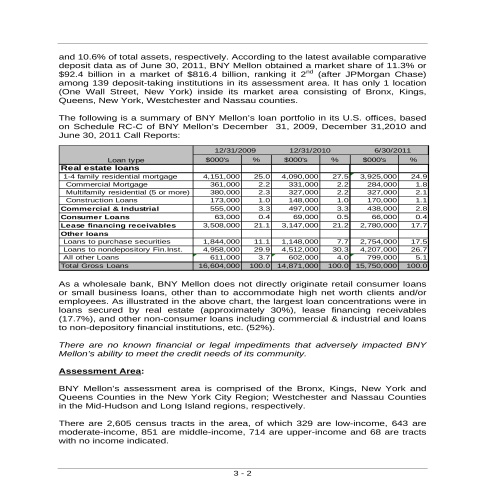bodyrows: (60, 164, 429, 269)
borderedtable: (55, 143, 433, 272)
cell: (63, 189, 190, 196), (59, 247, 184, 254), (61, 205, 162, 213), (61, 222, 176, 229), (60, 239, 173, 246), (62, 174, 181, 180), (63, 181, 152, 188), (63, 197, 142, 204), (61, 214, 135, 221), (105, 155, 149, 165), (62, 166, 147, 171), (372, 144, 414, 154), (62, 263, 131, 269), (289, 145, 334, 154), (209, 146, 258, 154), (61, 230, 108, 238), (280, 153, 313, 164), (62, 255, 119, 261), (278, 262, 318, 270), (202, 156, 236, 165), (359, 173, 397, 181), (356, 262, 398, 269), (199, 262, 240, 269), (281, 246, 318, 253), (359, 239, 396, 246), (206, 204, 241, 211), (207, 189, 241, 196), (360, 156, 389, 164), (201, 223, 239, 229), (280, 174, 318, 180), (280, 239, 318, 245), (286, 206, 318, 213), (281, 222, 318, 228), (367, 206, 398, 213), (325, 155, 343, 167), (292, 213, 319, 221), (360, 247, 396, 253), (287, 181, 317, 188), (362, 182, 397, 188), (405, 155, 422, 167), (367, 214, 396, 221), (368, 255, 397, 262), (208, 214, 241, 220), (365, 190, 398, 196), (366, 198, 398, 204), (202, 239, 240, 244), (203, 247, 240, 252), (360, 223, 397, 228), (204, 174, 240, 179), (204, 182, 240, 187), (289, 197, 319, 203), (289, 255, 319, 261), (207, 198, 241, 203), (287, 190, 319, 195), (248, 156, 267, 164), (252, 238, 271, 246), (327, 263, 348, 270), (407, 262, 427, 269), (253, 246, 271, 253), (209, 256, 239, 260), (255, 188, 270, 196), (254, 213, 271, 220), (411, 247, 428, 254), (330, 173, 349, 179), (408, 174, 427, 180), (255, 205, 271, 212), (255, 222, 271, 229), (254, 254, 270, 261), (332, 223, 350, 229), (332, 246, 350, 252), (255, 197, 270, 204), (250, 263, 271, 268), (334, 181, 349, 188), (411, 222, 426, 229), (411, 238, 428, 244), (334, 197, 348, 204), (336, 255, 349, 262), (254, 174, 269, 180), (333, 206, 350, 211), (334, 215, 350, 220), (415, 181, 428, 187), (415, 190, 428, 196), (255, 182, 270, 187), (334, 190, 349, 195), (413, 255, 427, 260), (416, 198, 427, 204), (336, 239, 348, 244), (415, 214, 427, 219), (416, 207, 427, 212)
headerrows: (60, 145, 429, 165)
